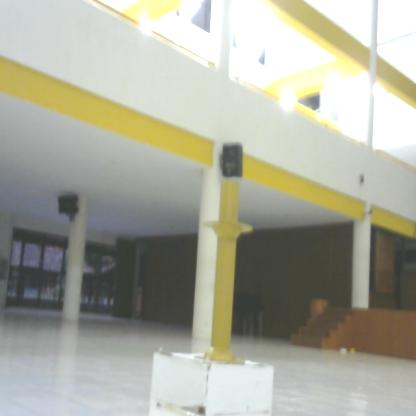pole: (191, 184, 253, 372)
